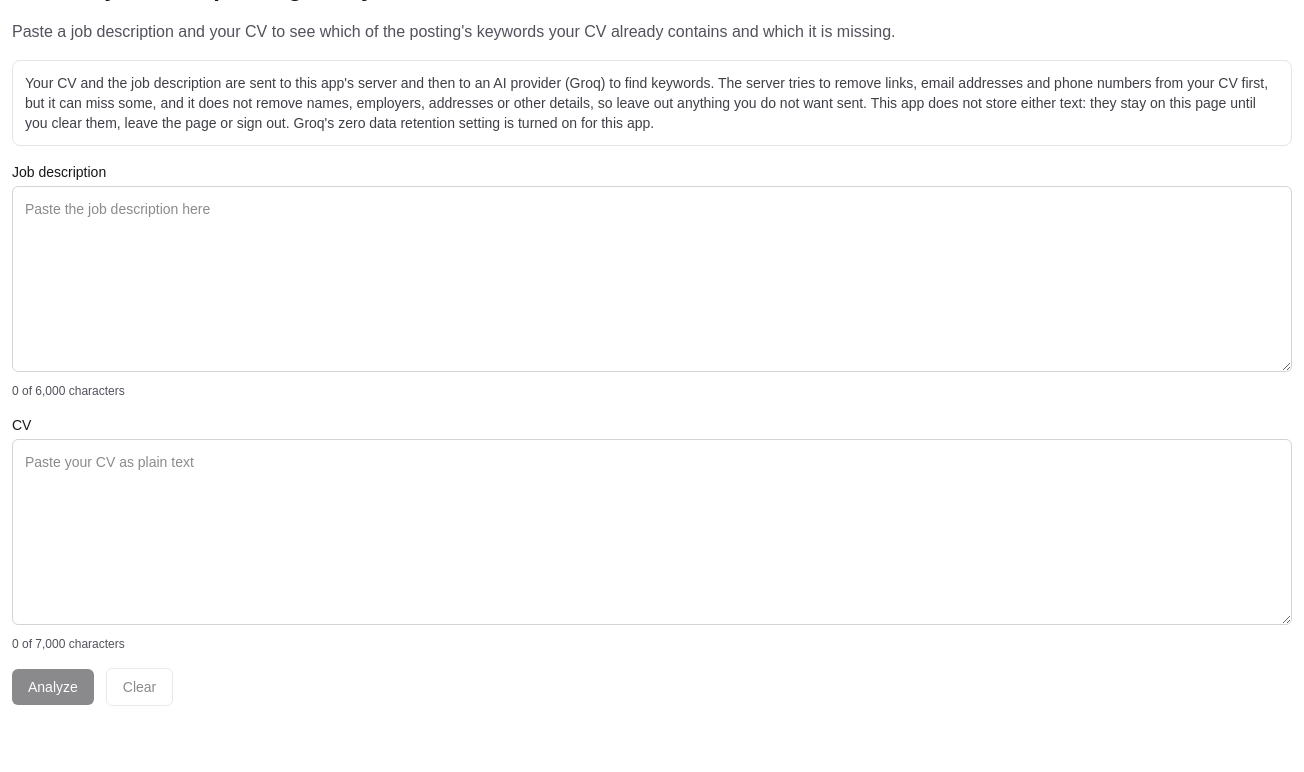
Test: KeywordGapAnalyzer: a successful analysis › says so when the job description yielded no keywords
The image size is (1304, 772).
Click the text box labelled "Job description".
click(652, 279)  # box x1=12 y1=186 x2=1292 y2=372
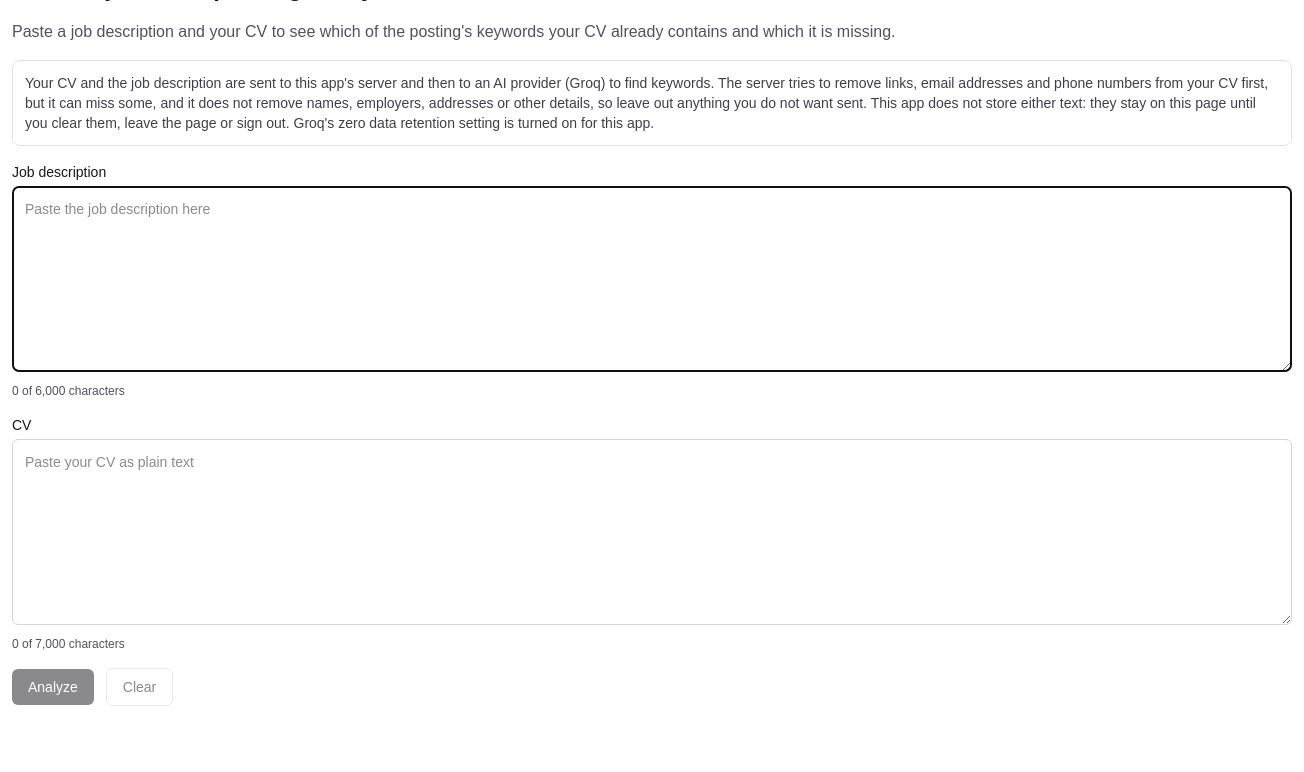
Type keys "Acme Example Ltd is hiring a Frontend Engineer. Required: React, TypeScript, REST APIs, Git and GraphQL. Preferred: Docker and Kubernetes."
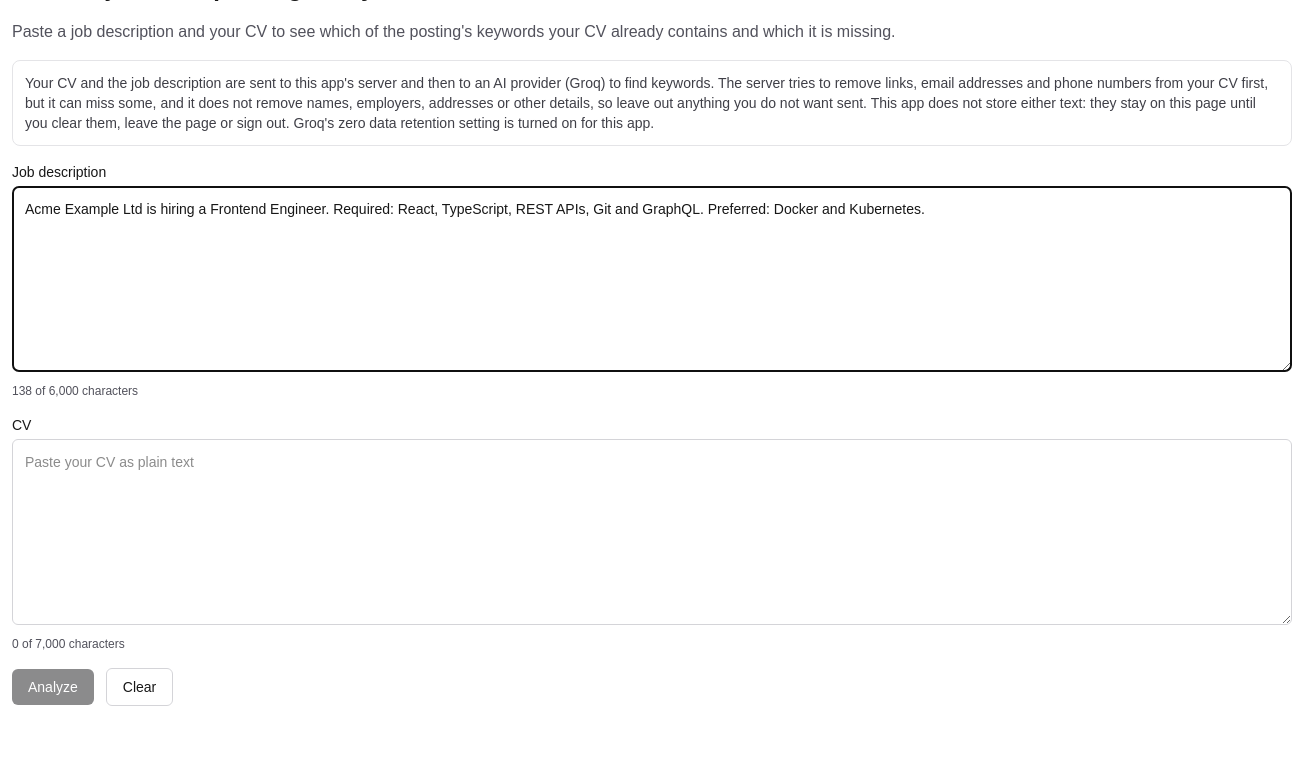
Click the text box labelled "CV".
click(652, 532)  # box x1=12 y1=439 x2=1292 y2=625
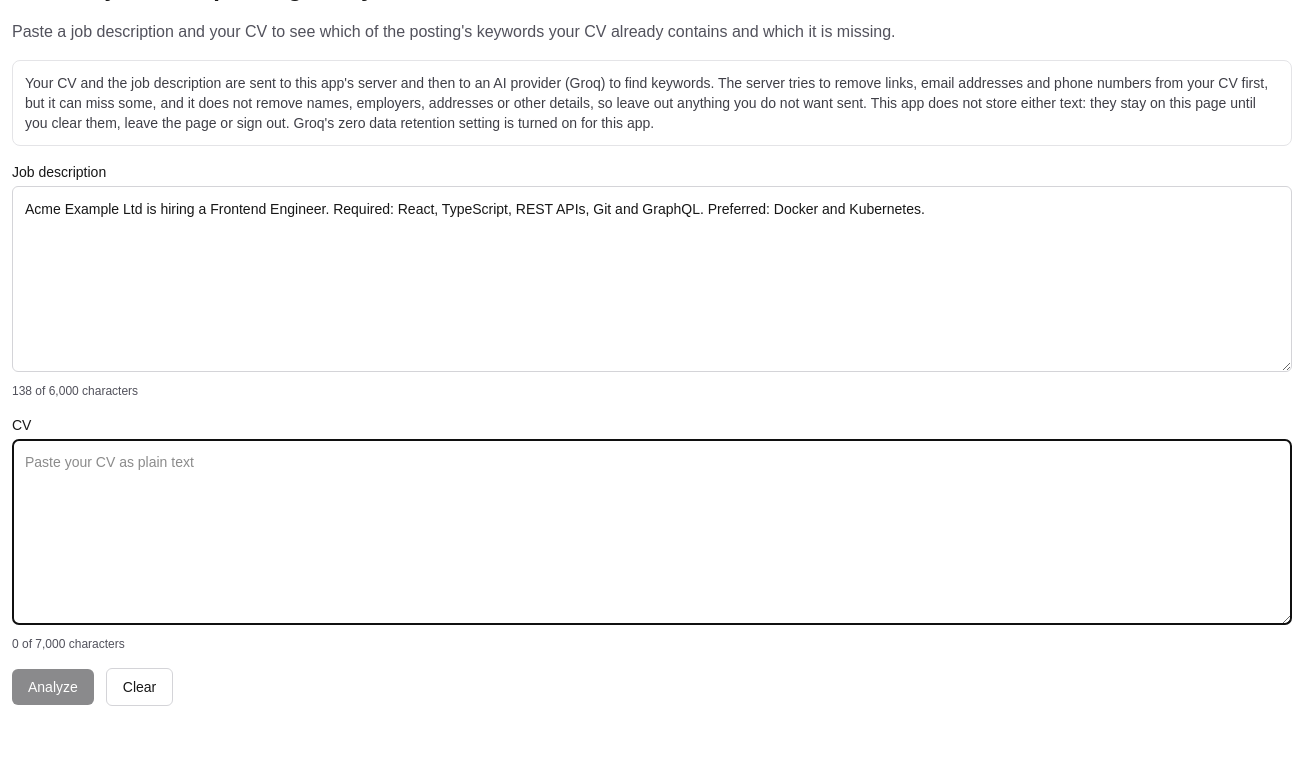
Type keys "Jane Example. Frontend developer. Built single-page apps with React and TypeScript, consumed REST APIs and used Git every day."
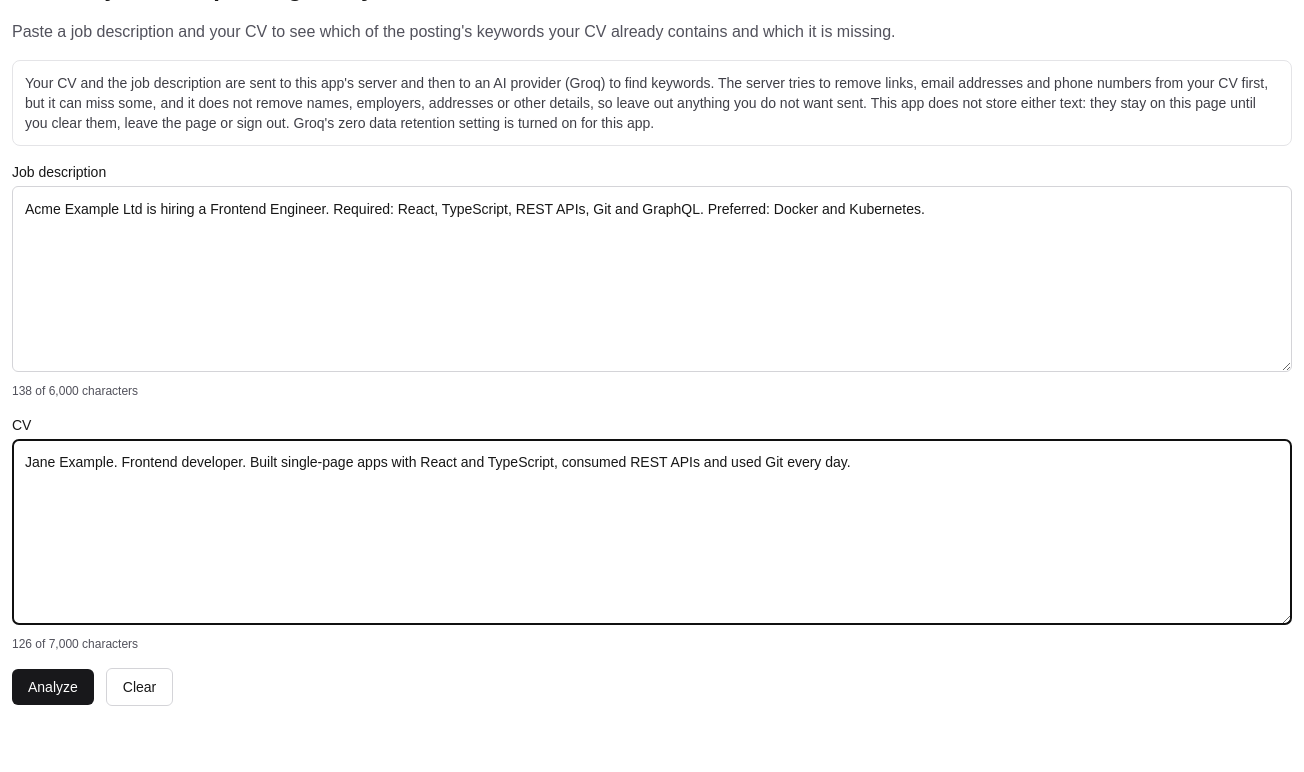
Click the button "Analyze".
click(53, 687)  # box x1=12 y1=669 x2=94 y2=705
(page scrolled)
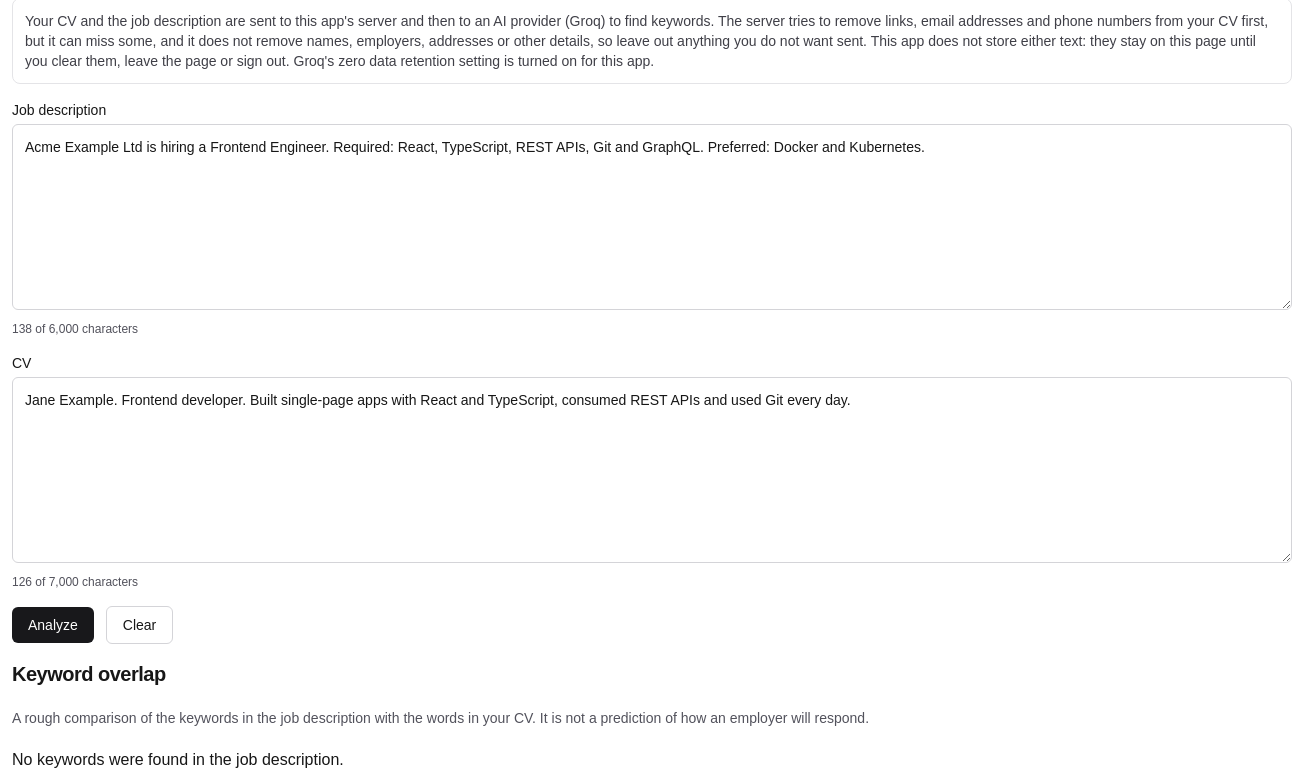
Expected: the heading "Keyword overlap" is shown, x1=12 y1=663 x2=166 y2=685
Expected: the text "No keywords were found in the job description." is shown, x1=12 y1=751 x2=344 y2=768
